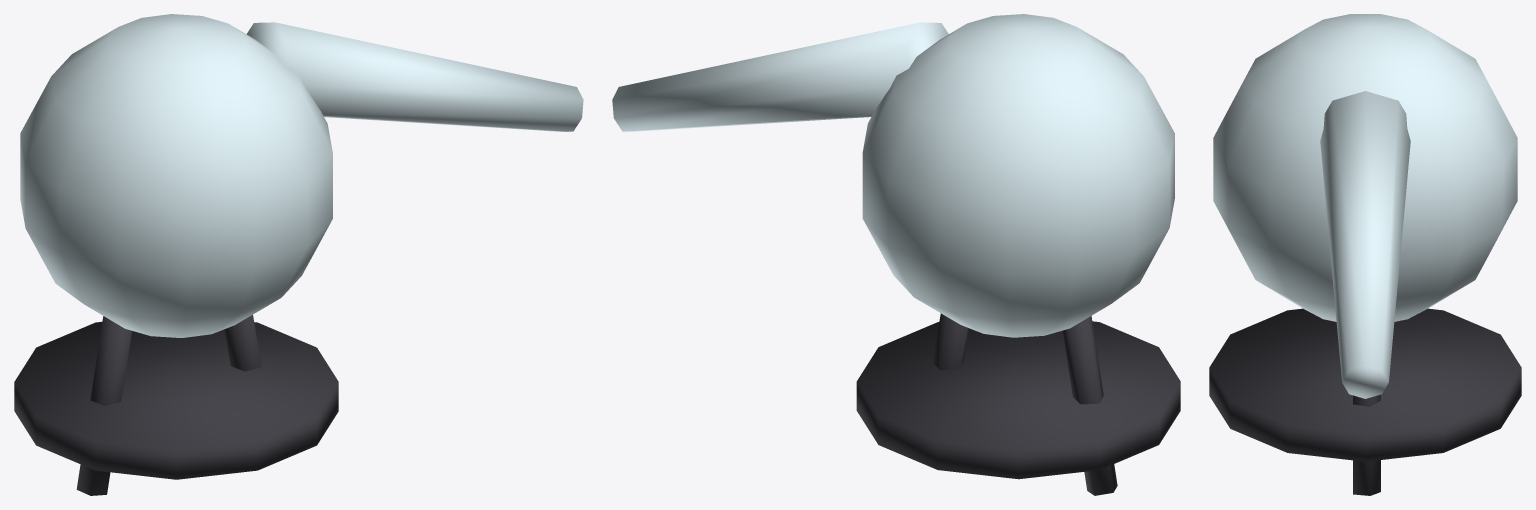
Rendered from apparatus_retort.glb.
The picture shows the model from 3 angles, left to right: view 1: azimuth 30°, elevation 25°; view 2: azimuth 150°, elevation 25°; view 3: azimuth 270°, elevation 25°; orthographic projection. The views are drawn at different scales.
Visible parts, largest first — view 1: GD_apparatus_retort__m0, GD_apparatus_retort__m2; view 2: GD_apparatus_retort__m0, GD_apparatus_retort__m2; view 3: GD_apparatus_retort__m0, GD_apparatus_retort__m2.
Part boxes in pixels (<box>): GD_apparatus_retort__m0: <box>20,14,583,337</box>; GD_apparatus_retort__m2: <box>14,315,338,495</box>; GD_apparatus_retort__m0: <box>612,14,1174,337</box>; GD_apparatus_retort__m2: <box>856,313,1180,495</box>; GD_apparatus_retort__m0: <box>1213,14,1517,398</box>; GD_apparatus_retort__m2: <box>1209,308,1521,495</box>.
Size of the model in its own units: 0.3851 by 0.3016 by 0.2.
